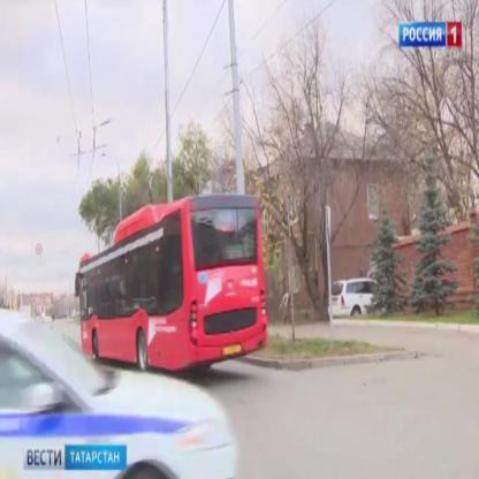bus: (72, 194, 271, 373)
car: (0, 308, 242, 479), (329, 274, 393, 322)
